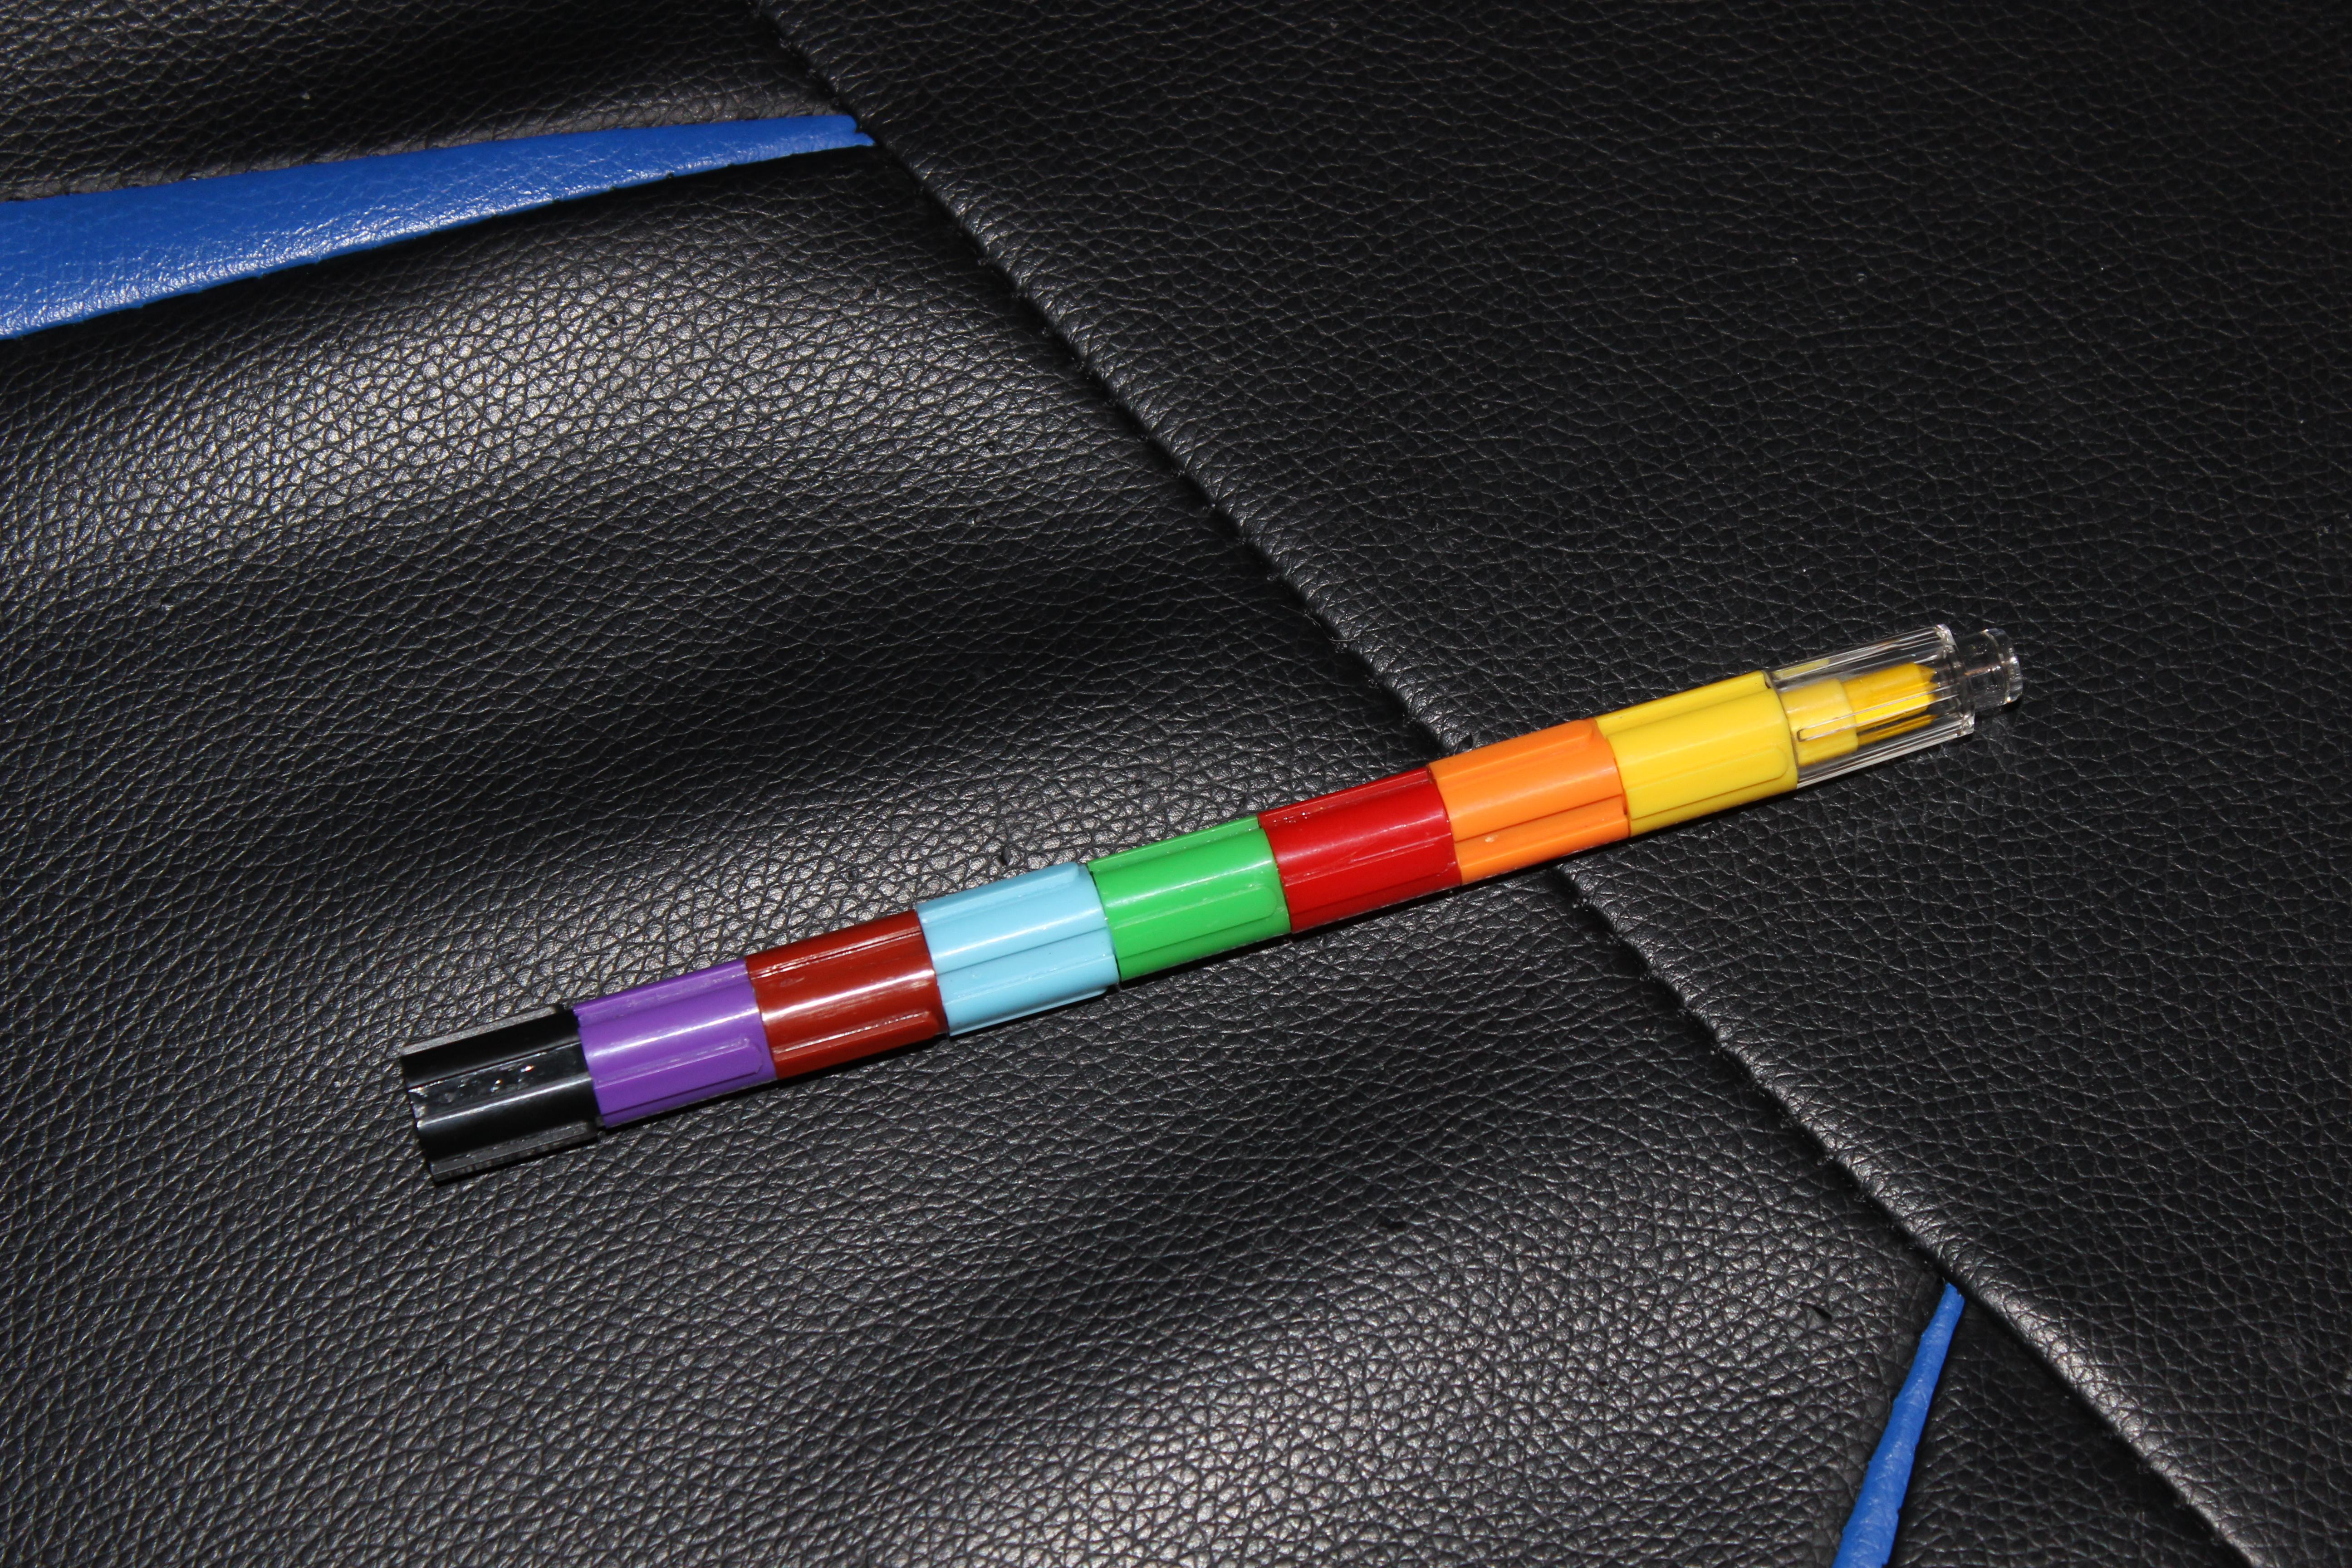rainbowPens: (360, 595, 2058, 1220)
